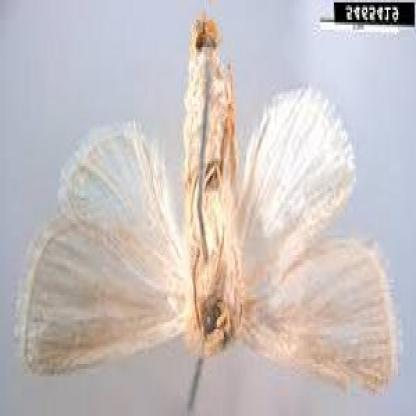stem-borer: (16, 37, 402, 400)
